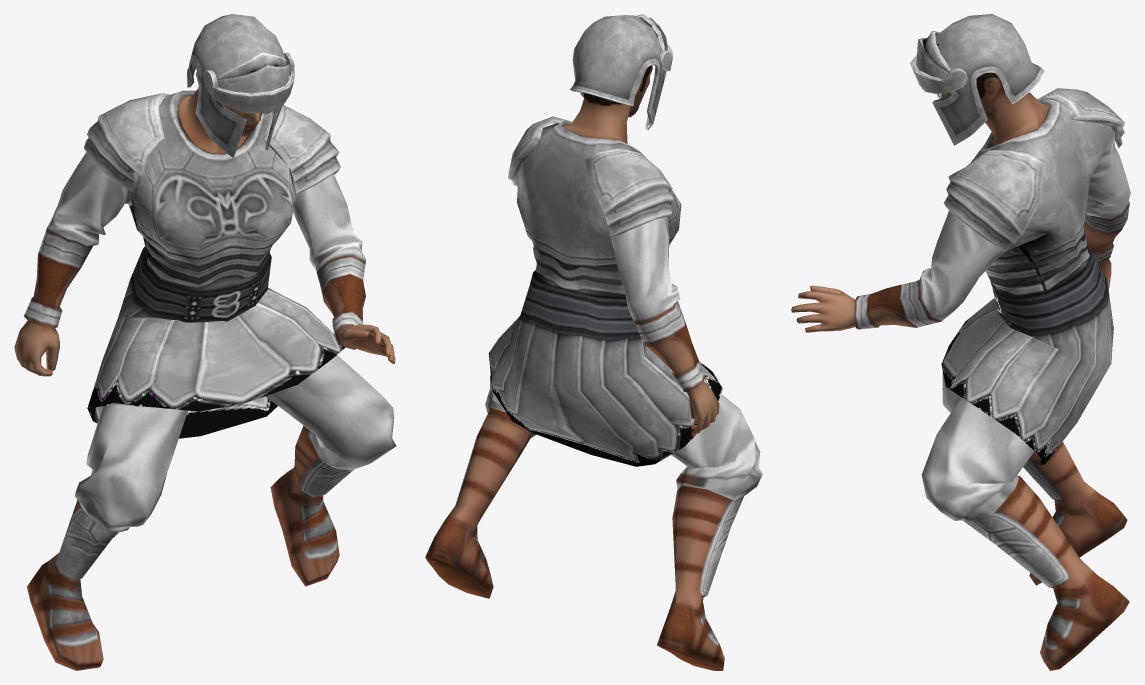
The model's file is rider-championarchers.glb.
The picture shows the model from 3 angles, left to right: view 1: azimuth 30°, elevation 25°; view 2: azimuth 150°, elevation 25°; view 3: azimuth 270°, elevation 25°; orthographic projection. The views are drawn at different scales.
Bounding box in the file's own units: 0.9623 × 1.95 × 0.9677.
2 materials, 2 textured.
